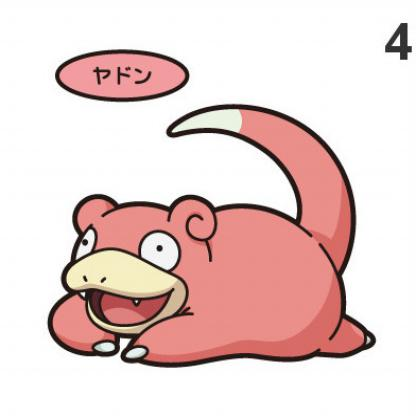Slowpoke: (47, 102, 386, 386)
